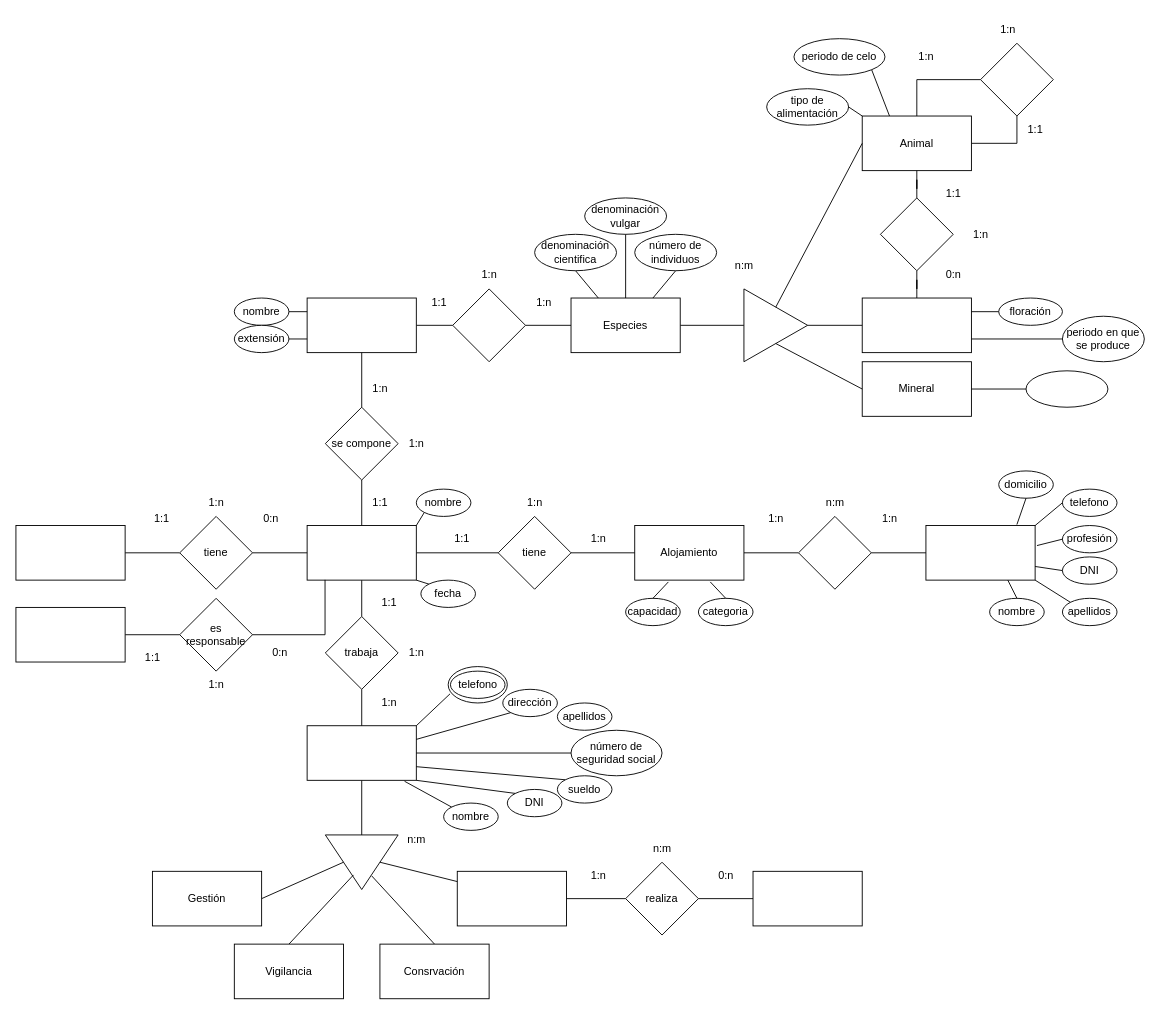
Image size: 1160x1015. Some labels were removed from this diagram. The centre of each missing label's shape, as x and y in pixels:
Area: [361,325]
Cabildo Insular: [70,552]
Investigador: [511,898]
Organismo: [70,634]
Parque natural: [361,552]
Personal: [361,752]
Proyecto de investigación: [807,898]
reside: [489,325]
se alimenta: [916,234]
se alimentan: [1016,79]
se aloja: [834,552]
tipo de mineral: [1066,388]
Vegetal: [916,325]
Vsitante: [980,552]
